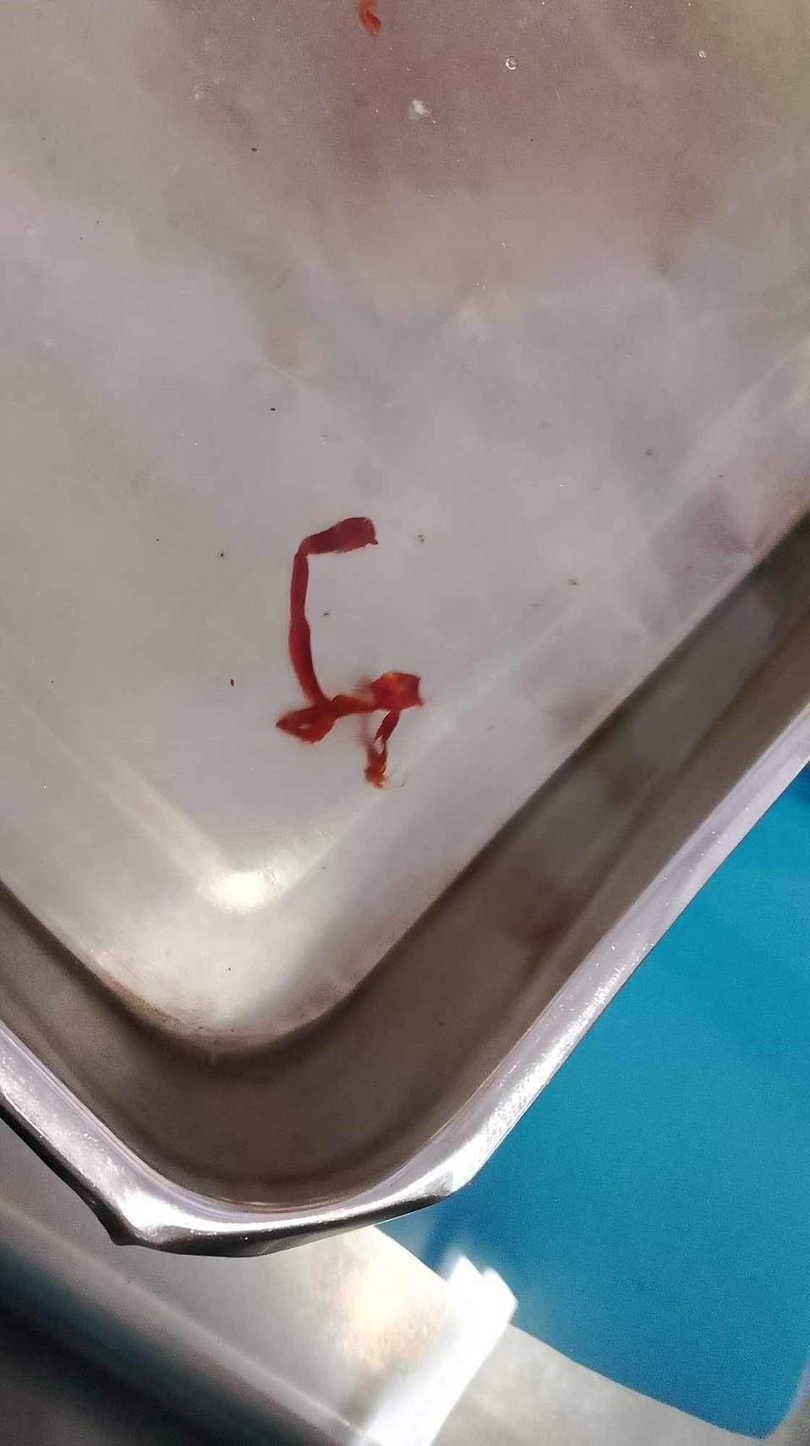Pathological: (3, 3, 807, 1259)
Sharps: (274, 512, 424, 788)
